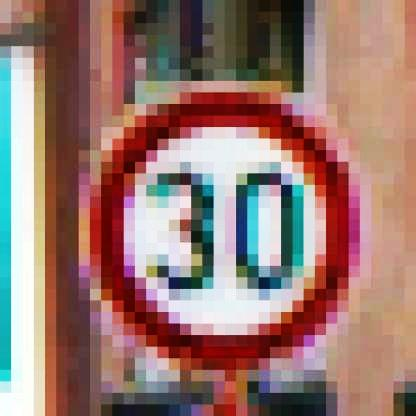Speed Limit -30-: (81, 79, 375, 371)
